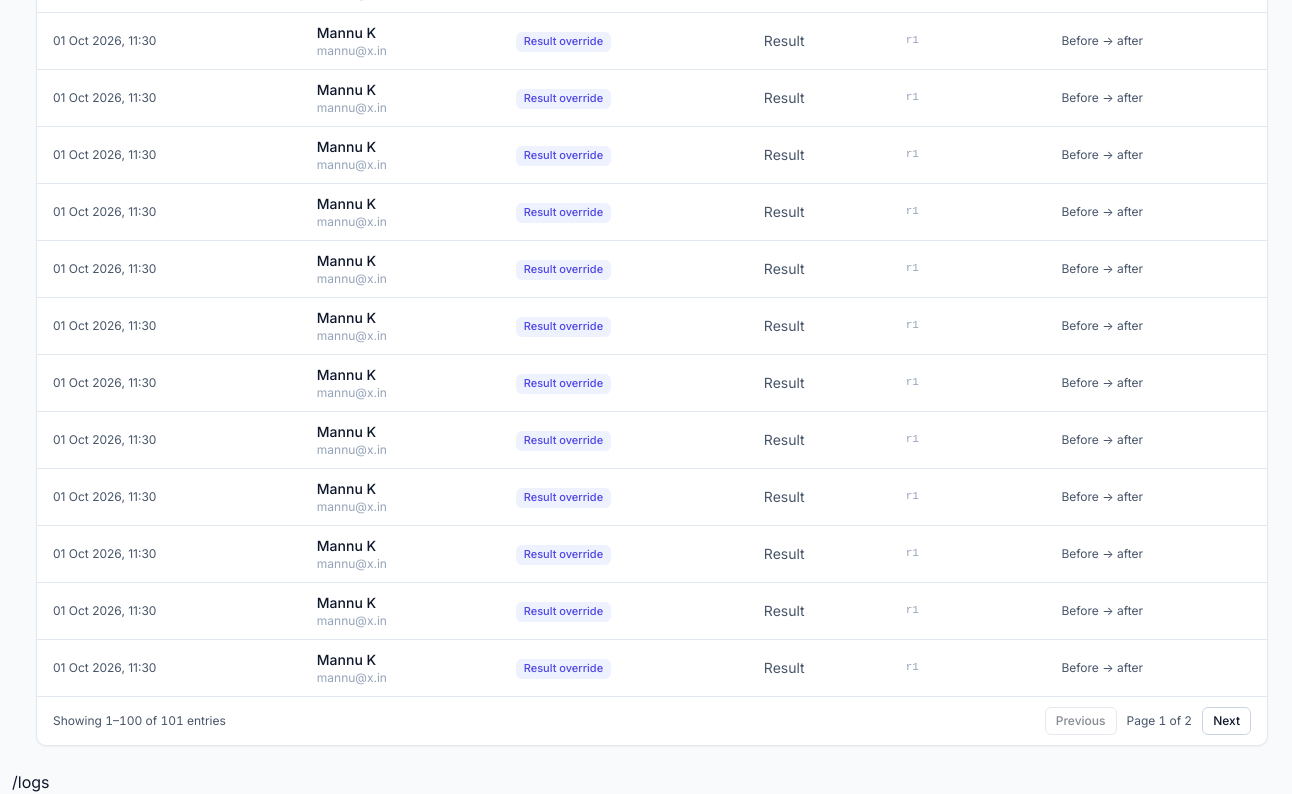
it: Audit logs page › pages through the whole log: total in the toolbar, Next loads page 2 (no silent 200 cap)
(page scrolled)
expect the text "Showing 1–100 of 101 entries" is shown: met, box [53, 713, 226, 729]
What coordinates should you click on to do the following:
click the button "Next"
I would click on:
 (1227, 721)
Its box is [1202, 707, 1251, 735].
(page scrolled)
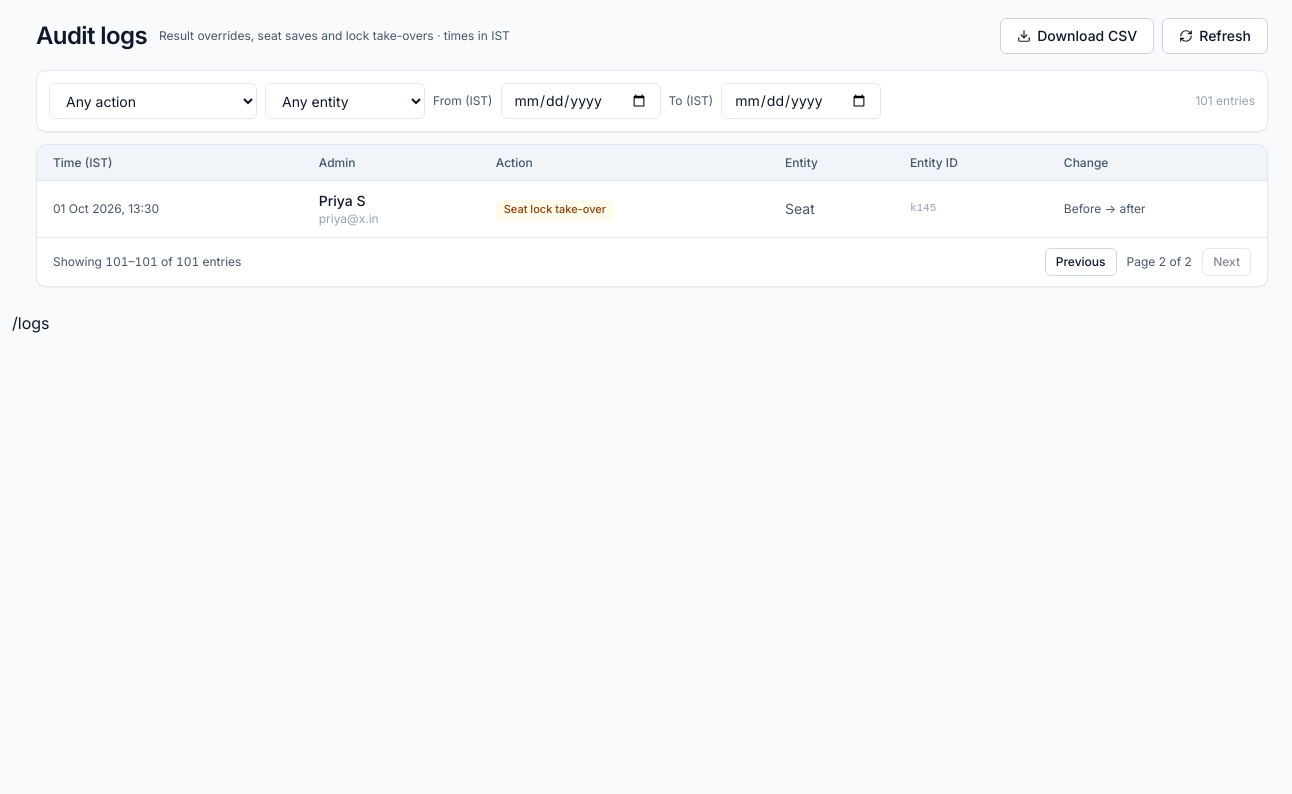
expect the text "Priya S" is shown: met, box [319, 192, 366, 209]
expect the text "Page 2 of 2" is shown: met, box [1122, 254, 1196, 270]
